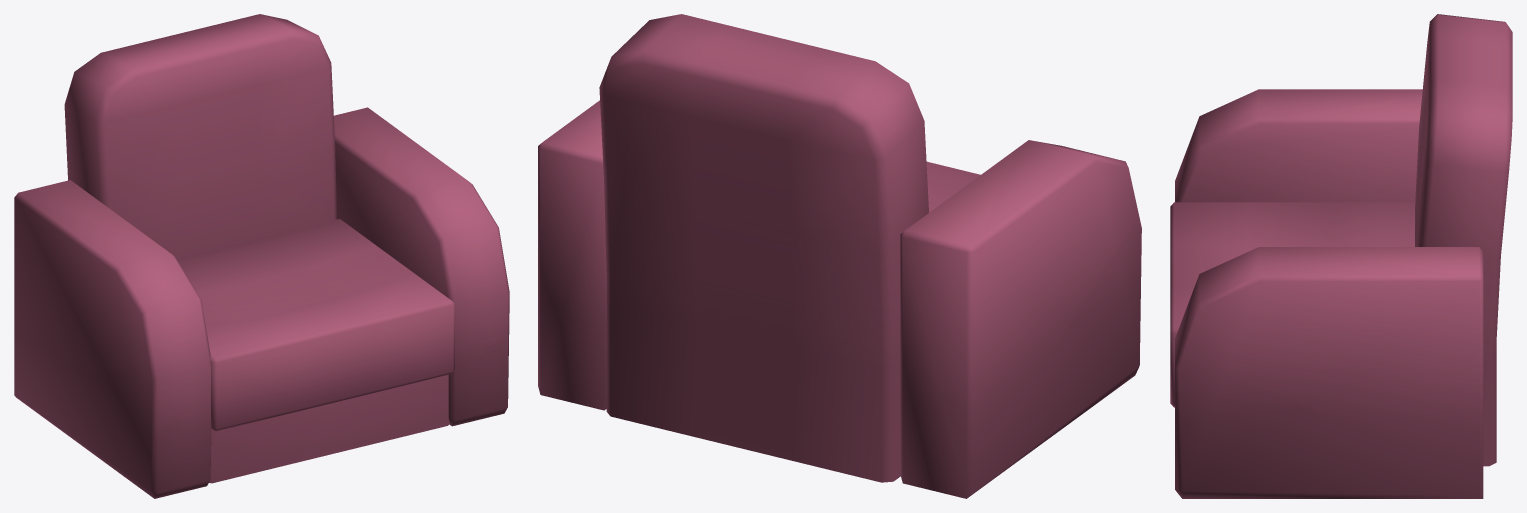
File: Sofa.fbx
3 renders of one model, left to right at view 1: azimuth 30°, elevation 25°; view 2: azimuth 150°, elevation 25°; view 3: azimuth 270°, elevation 25°, orthographic. The views are drawn at different scales.
Visible parts, largest first — view 1: Sofa; view 2: Sofa; view 3: Sofa.
Part boxes in pixels (left/top/right/bottom): Sofa: left=14, top=14, right=509, bottom=498; Sofa: left=538, top=14, right=1141, bottom=498; Sofa: left=1170, top=14, right=1512, bottom=498.
Size of the model in its own units: 2.22 by 1.91 by 1.7.
1 material, 1 textured.
